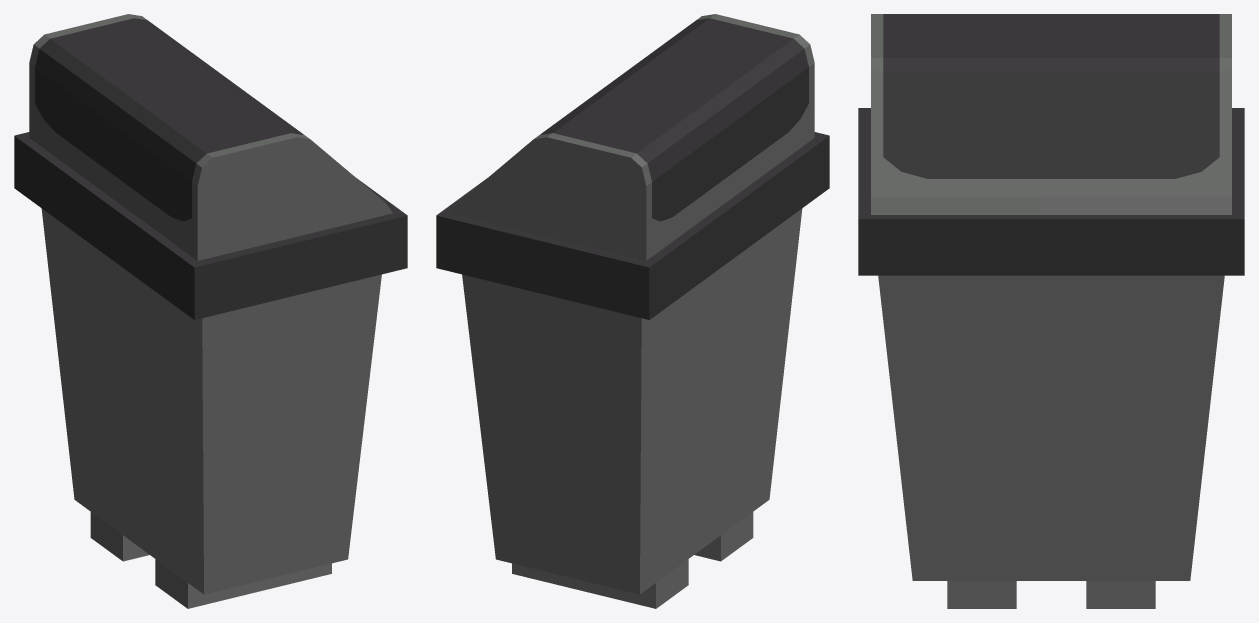
Rendered from SM_Bin_01.glb.
3 renders of one model, left to right at view 1: azimuth 30°, elevation 25°; view 2: azimuth 150°, elevation 25°; view 3: azimuth 270°, elevation 25°, orthographic. The views are drawn at different scales.
Visible parts, largest first — view 1: SM_Bin_01; view 2: SM_Bin_01; view 3: SM_Bin_01.
Part boxes in pixels (left/top/right/bottom): SM_Bin_01: left=14, top=14, right=407, bottom=608; SM_Bin_01: left=436, top=14, right=829, bottom=608; SM_Bin_01: left=858, top=14, right=1244, bottom=608.
Bounding box in the file's own units: 0.3328 × 0.7154 × 0.4873.
Materials: 1 (1 with a texture image).
